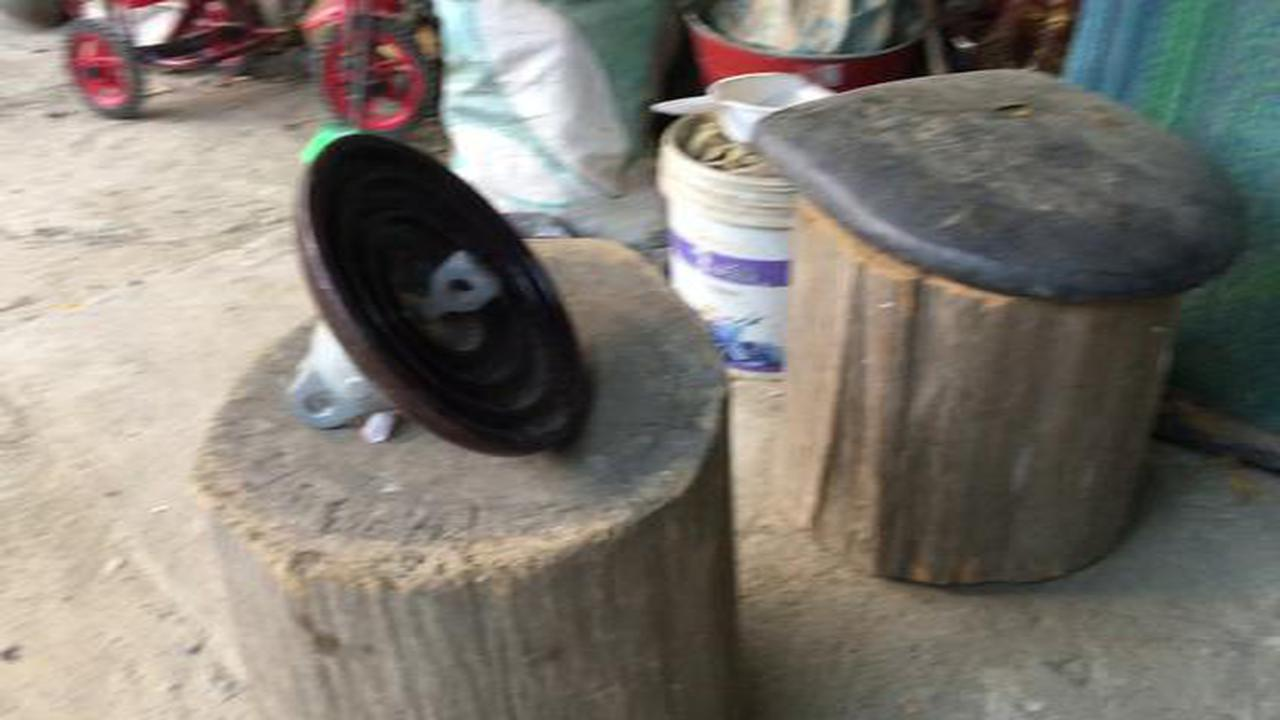insulator_disc: (278, 132, 598, 465)
